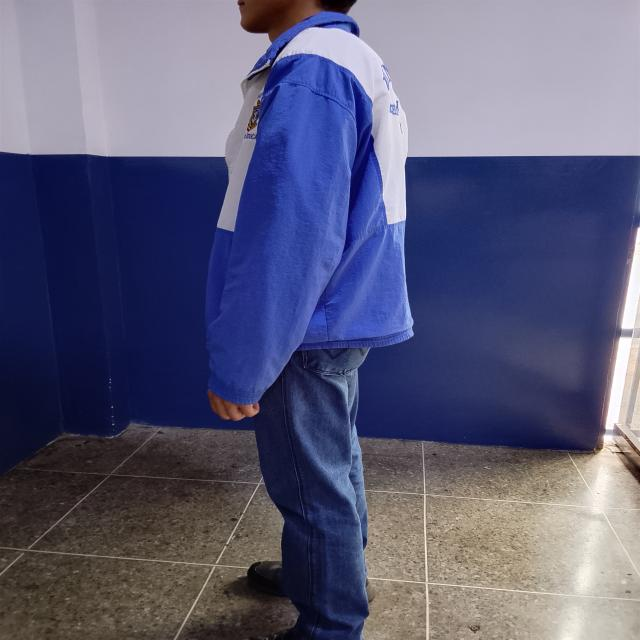chaqueta_unefa: (202, 10, 416, 406)
